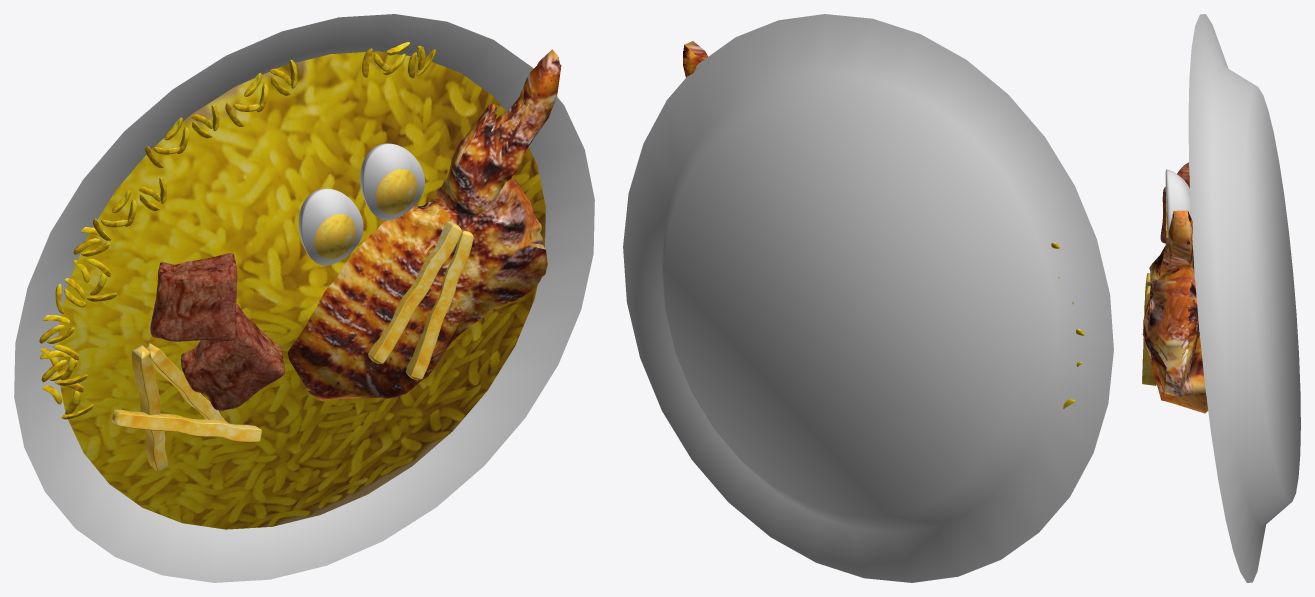
Rendered from mixedkabsah-v2.glb.
3 views of the same model, side by side, from view 1: azimuth 30°, elevation 25°; view 2: azimuth 150°, elevation 25°; view 3: azimuth 270°, elevation 25° (orthographic). The views are drawn at different scales.
Parts seen in each view (by area): view 1: Cone, Circle.001, Vert, Cube.002, Cube.001, Sphere, Sphere.001, Cube.004, Cube.006, Cube.005, Cube.007, Cube.003 (+7 smaller); view 2: Circle.001; view 3: Circle.001, Vert, Sphere.001, Cube.005, Cube.002.
Part boxes in pixels (box(x1,y1,x2,y2)): Cone: box(57, 51, 545, 529); Circle.001: box(14, 14, 594, 582); Vert: box(287, 49, 561, 400); Cube.002: box(150, 253, 237, 341); Cube.001: box(181, 303, 284, 410); Sphere: box(298, 188, 363, 265); Sphere.001: box(360, 143, 424, 220); Cube.004: box(368, 221, 461, 363); Cube.006: box(112, 409, 261, 442); Cube.005: box(405, 231, 473, 380); Cube.007: box(131, 345, 167, 471); Cube.003: box(146, 343, 227, 439); Circle.001: box(623, 14, 1113, 582); Circle.001: box(1188, 14, 1300, 582); Vert: box(1142, 210, 1208, 413); Sphere.001: box(1165, 169, 1190, 237); Cube.005: box(1142, 286, 1156, 385); Cube.002: box(1160, 162, 1189, 243).
Size of the model in its own units: 8.73 by 8.68 by 2.43.
23 materials, 20 textured.
